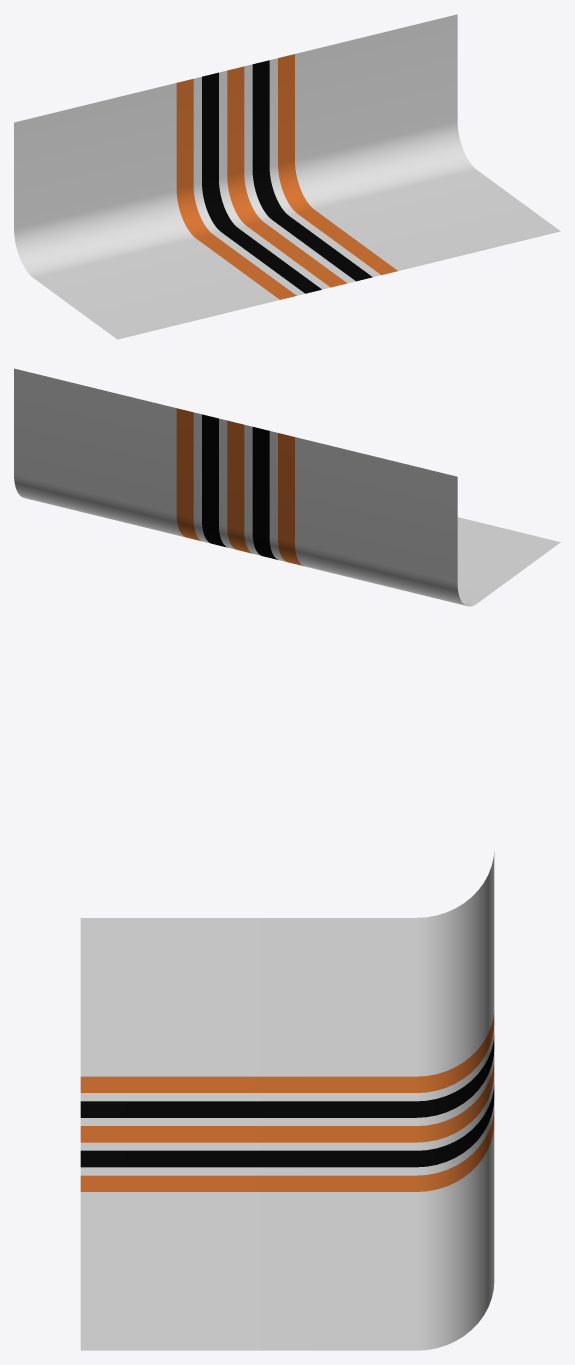
The model's file is Show stage.fbx.
3 renders of one model, top to bottom at view 1: azimuth 30°, elevation 25°; view 2: azimuth 150°, elevation 25°; view 3: azimuth 270°, elevation 25°, orthographic. The views are drawn at different scales.
Visible parts, largest first — view 1: Cylinder; view 2: Cylinder; view 3: Cylinder.
Boxes of the visible parts, <box> form: Cylinder: <box>14,14,560,339</box>; Cylinder: <box>14,368,560,606</box>; Cylinder: <box>80,852,494,1350</box>.
Bounding box in the file's own units: 5250 × 1599 × 2122.
